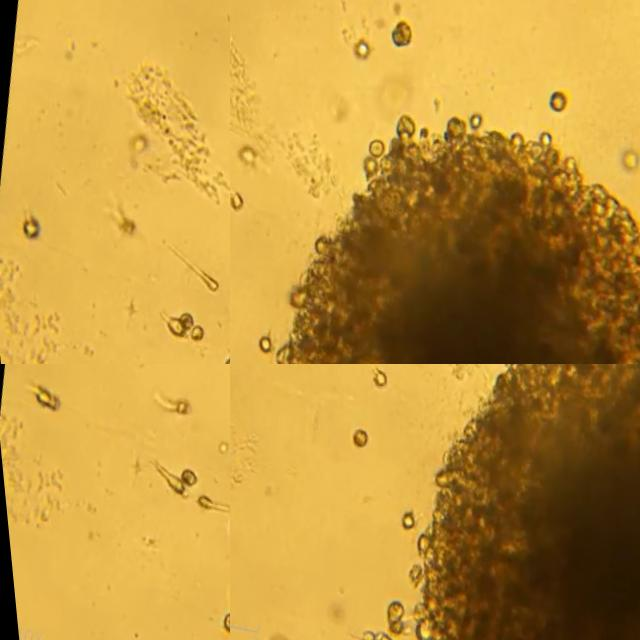cell: (166, 243, 213, 292), (141, 462, 179, 497), (25, 383, 56, 410), (192, 494, 230, 512), (390, 18, 410, 47), (16, 214, 35, 238), (157, 316, 178, 337), (171, 468, 193, 487), (546, 89, 563, 112), (618, 149, 634, 172), (351, 37, 368, 58), (346, 429, 363, 445), (249, 334, 264, 352), (166, 399, 183, 414), (182, 326, 197, 341), (393, 512, 407, 528), (367, 369, 380, 386), (230, 190, 240, 211), (173, 315, 186, 330), (351, 629, 362, 640), (361, 634, 372, 640)
tumor_mass: (269, 113, 640, 364), (373, 364, 640, 640)
